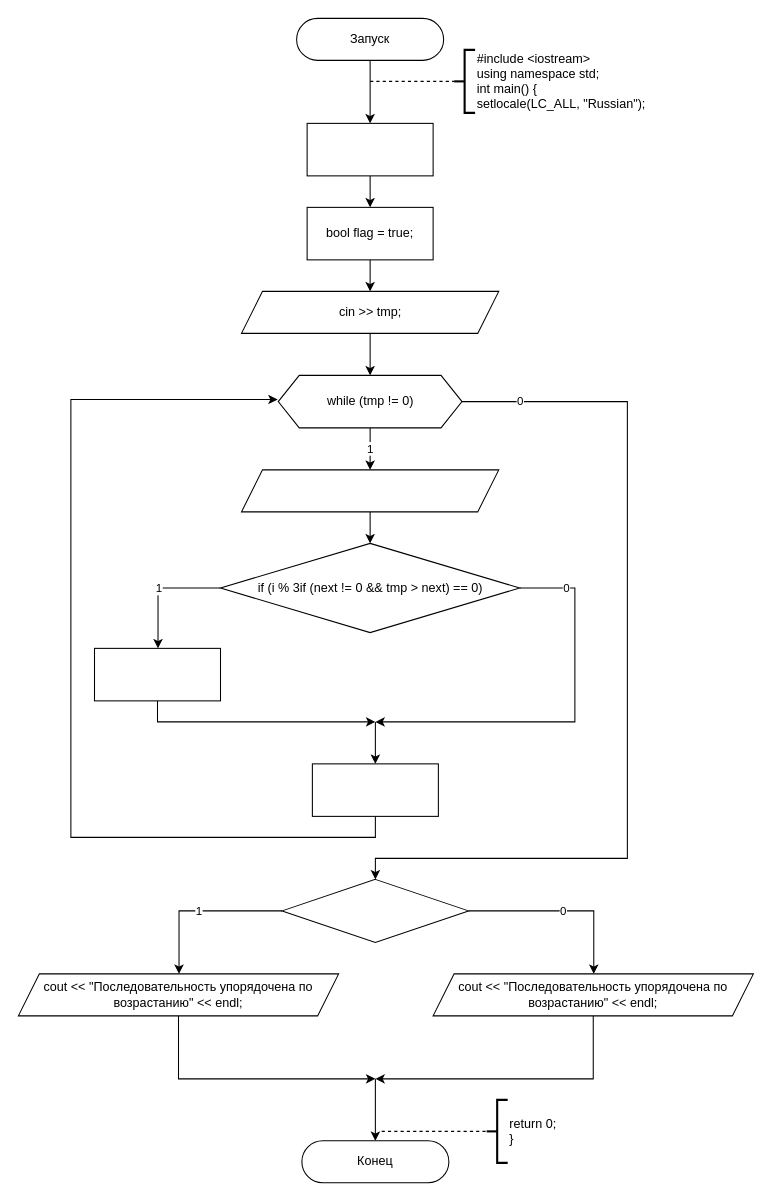
The diagram is 772 pixels wide and 1201 high, and some of its shapes have lost their labels. The centre of each missing label's shape, as x and y in pixels:
"cin >> next;" belongs at (x=369, y=490).
"flag = false;" belongs at (x=156, y=674).
"if (flag)" belongs at (x=375, y=910).
"int tmp, next;" belongs at (x=369, y=149).
"tmp = next;" belongs at (x=374, y=789).
